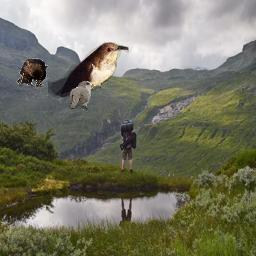Crow: (16, 58, 49, 87)
Cuckoo: (48, 42, 129, 101), (69, 81, 95, 110)
